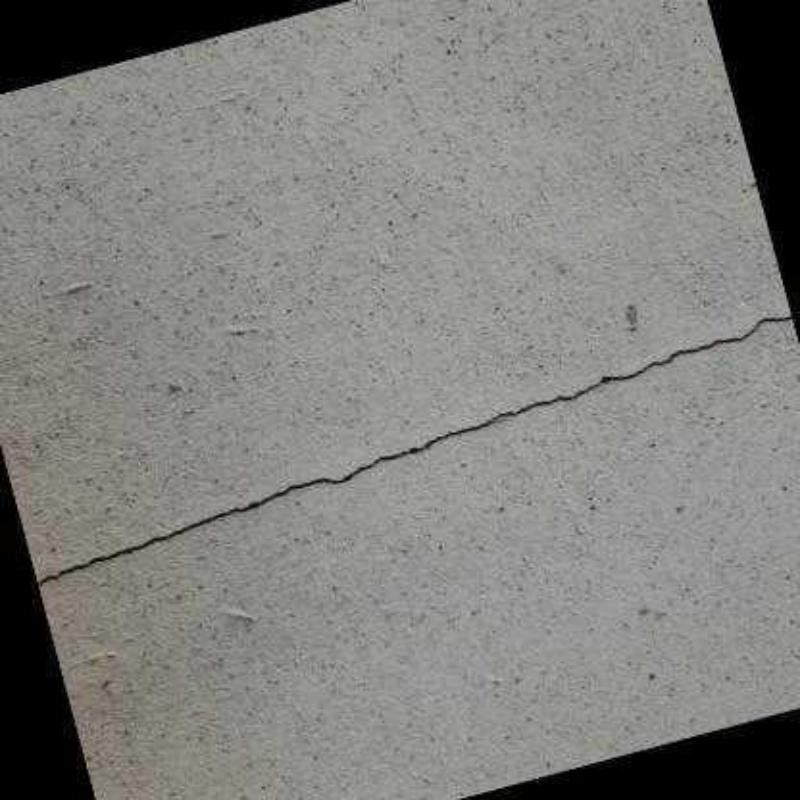pothole: (40, 315, 798, 585)
